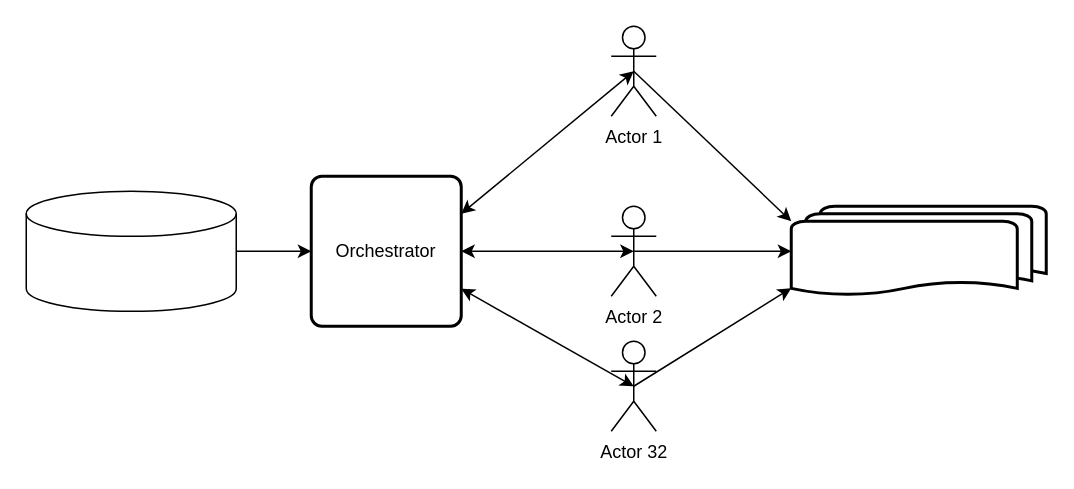
Some shapes in this 1074 by 489 pixel diagram are drawn without their labels. The box of each missing label's shape, as (x1, y1, x2, y2) in pixels:
Scraped JSON Data: (789, 204, 1047, 297)
Shuffled Chunk Queue: (25, 190, 236, 311)
